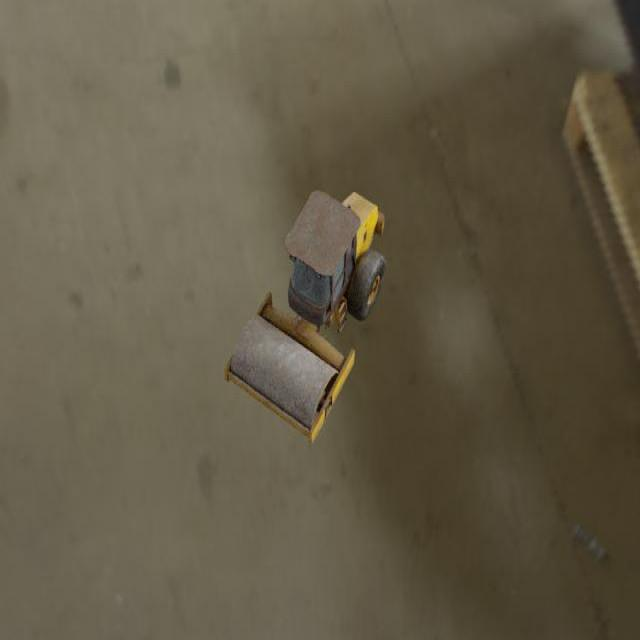Roller: (223, 189, 386, 444)
